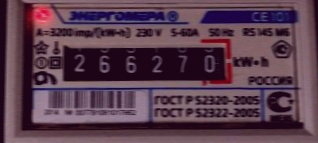0: (202, 51, 215, 71)
2: (71, 51, 86, 71), (149, 51, 163, 71)
6: (97, 51, 110, 72), (124, 52, 137, 72)
7: (175, 51, 187, 71)
screen: (53, 32, 237, 87)
